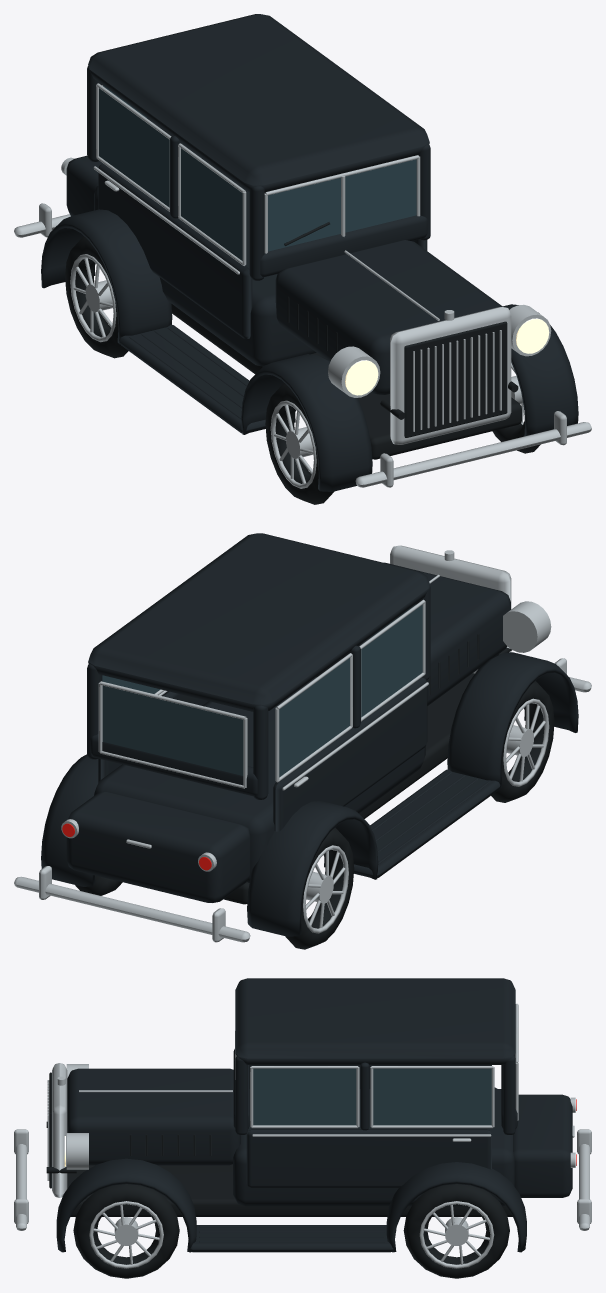
Rendered from gangster-driving.glb.
3 views of the same model, one above another, from view 1: azimuth 30°, elevation 25°; view 2: azimuth 150°, elevation 25°; view 3: azimuth 270°, elevation 25° (orthographic). The views are drawn at different scales.
Parts seen in each view (by area): view 1: body, door_left, bonnet, fender_left, grille, running_board_left, fender_right, wheel_fl, wheel_rl, lights_front, bumper_front, boot (+2 smaller); view 2: body, door_left, fender_left, boot, bonnet, running_board_left, wheel_rl, wheel_fl, fender_right, bumper_rear, grille, lights_front (+2 smaller); view 3: body, door_right, bonnet, fender_right, wheel_fr, wheel_rr, boot, running_board_right, grille, bumper_front, bumper_rear, lights_front.
Boxes of the visible parts, left/top/right/bottom form: body: left=87, top=14, right=521, bottom=459; door_left: left=93, top=83, right=252, bottom=338; bonnet: left=275, top=240, right=502, bottom=394; fender_left: left=41, top=209, right=372, bottom=491; grille: left=390, top=307, right=511, bottom=444; running_board_left: left=119, top=324, right=265, bottom=433; fender_right: left=503, top=304, right=578, bottom=436; wheel_fl: left=265, top=383, right=334, bottom=504; wheel_rl: left=65, top=236, right=128, bottom=358; lights_front: left=328, top=304, right=551, bottom=397; bumper_front: left=355, top=411, right=591, bottom=487; boot: left=66, top=143, right=202, bottom=215; body: left=87, top=533, right=474, bottom=904; door_left: left=273, top=599, right=428, bottom=831; fender_left: left=247, top=652, right=578, bottom=936; boot: left=66, top=792, right=250, bottom=902; bonnet: left=316, top=562, right=510, bottom=705; running_board_left: left=354, top=769, right=500, bottom=877; wheel_rl: left=285, top=827, right=354, bottom=949; wheel_fl: left=491, top=681, right=554, bottom=802; fender_right: left=41, top=754, right=98, bottom=886; bumper_rear: left=14, top=866, right=250, bottom=942; grille: left=390, top=545, right=511, bottom=673; lights_front: left=503, top=601, right=551, bottom=652; body: left=67, top=978, right=518, bottom=1216; door_right: left=246, top=1062, right=494, bottom=1187; bonnet: left=67, top=1068, right=240, bottom=1165; fender_right: left=56, top=1158, right=526, bottom=1252; wheel_fr: left=73, top=1184, right=179, bottom=1278; wheel_rr: left=403, top=1184, right=509, bottom=1278; boot: left=513, top=1094, right=574, bottom=1197; running_board_right: left=190, top=1225, right=393, bottom=1252; grille: left=47, top=1063, right=67, bottom=1197; bumper_front: left=14, top=1129, right=28, bottom=1230; bumper_rear: left=577, top=1129, right=591, bottom=1230; lights_front: left=64, top=1064, right=88, bottom=1169.
Bounding box in the file's own units: 1.98 × 2 × 4.62.
